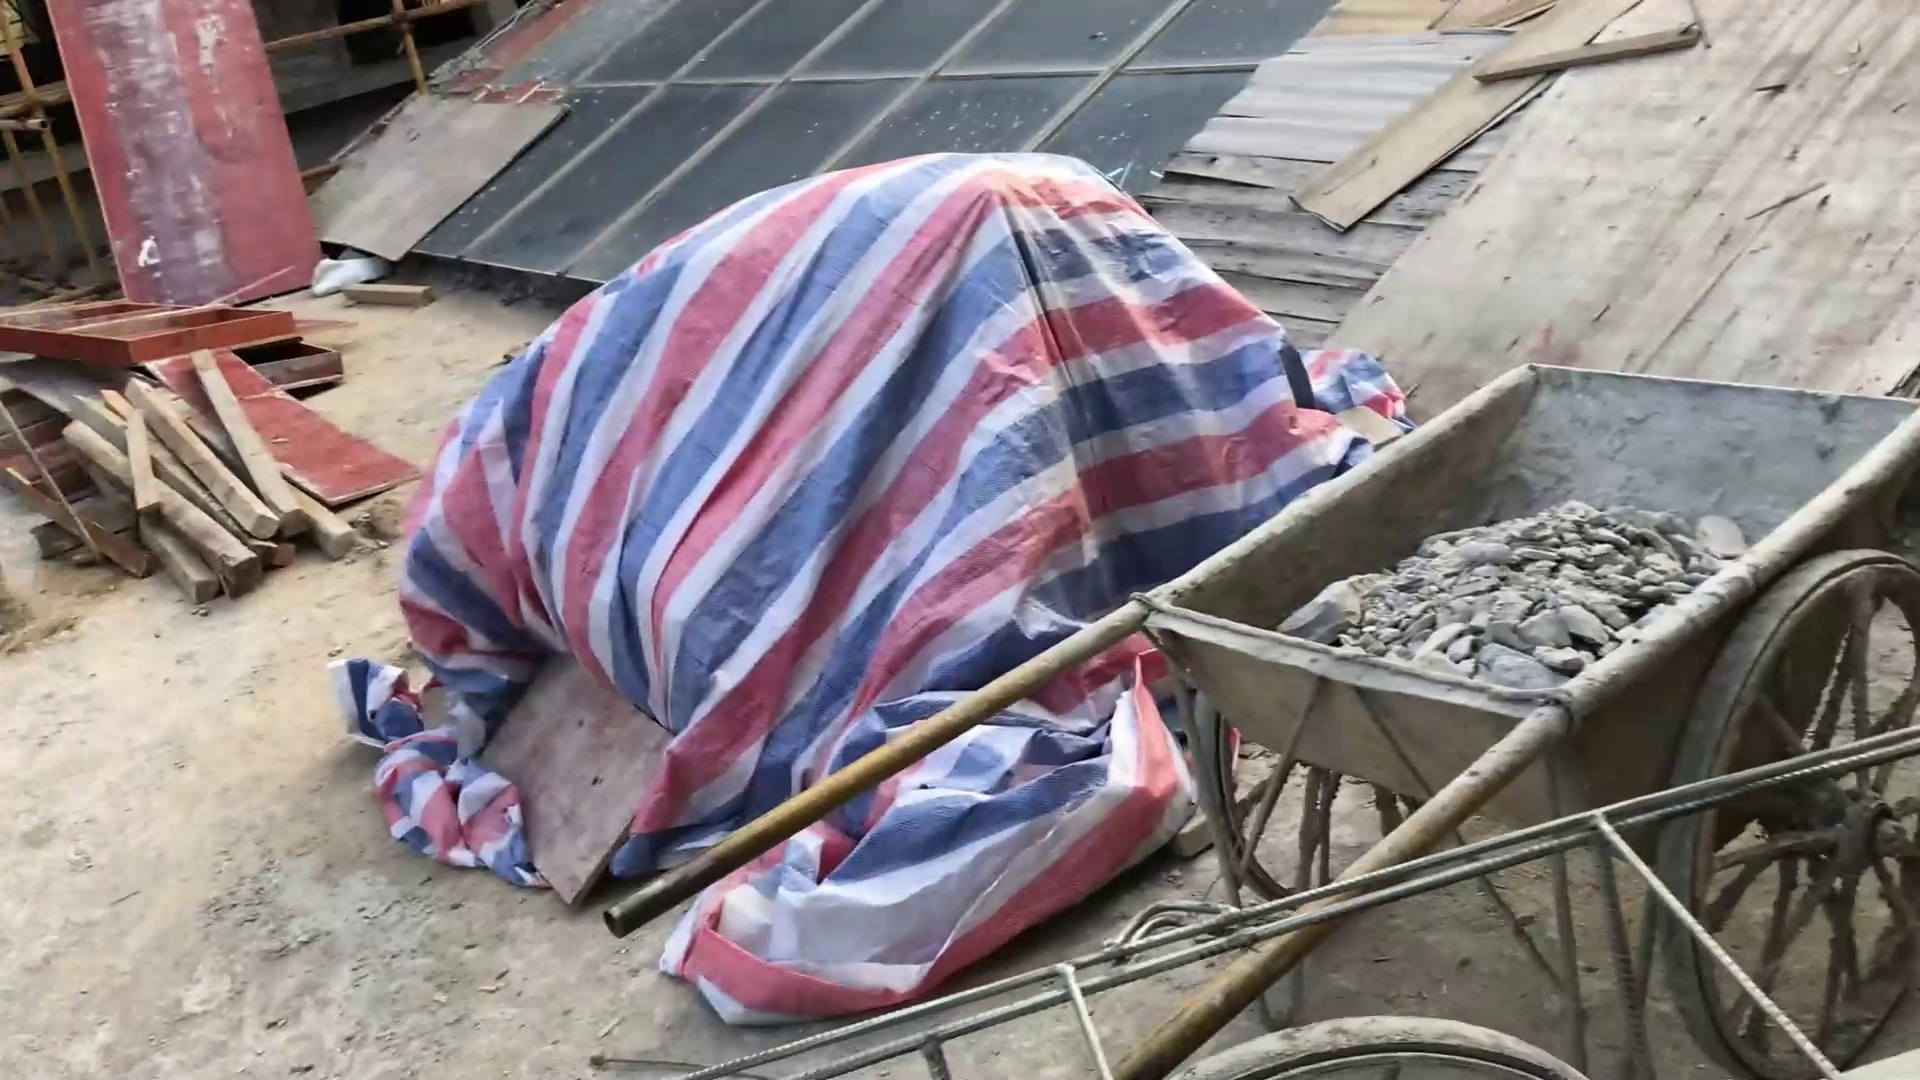handcart: (707, 367, 1920, 978)
wood: (55, 378, 386, 588)
